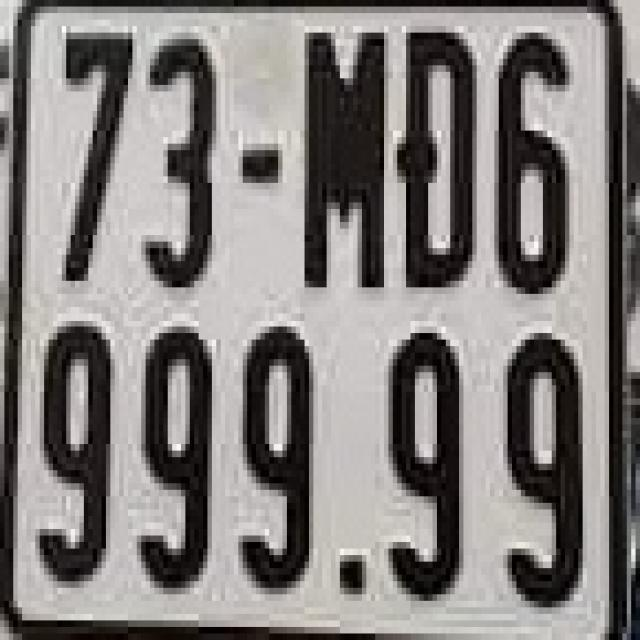3: (141, 32, 221, 288)
6: (494, 26, 574, 294)
7: (58, 26, 132, 281)
9: (498, 327, 588, 608), (380, 327, 468, 608), (234, 320, 318, 594), (136, 320, 216, 594), (35, 320, 115, 581)
D: (402, 26, 482, 287)
M: (300, 22, 389, 290)
